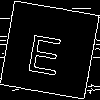E: (24, 25, 66, 76)
